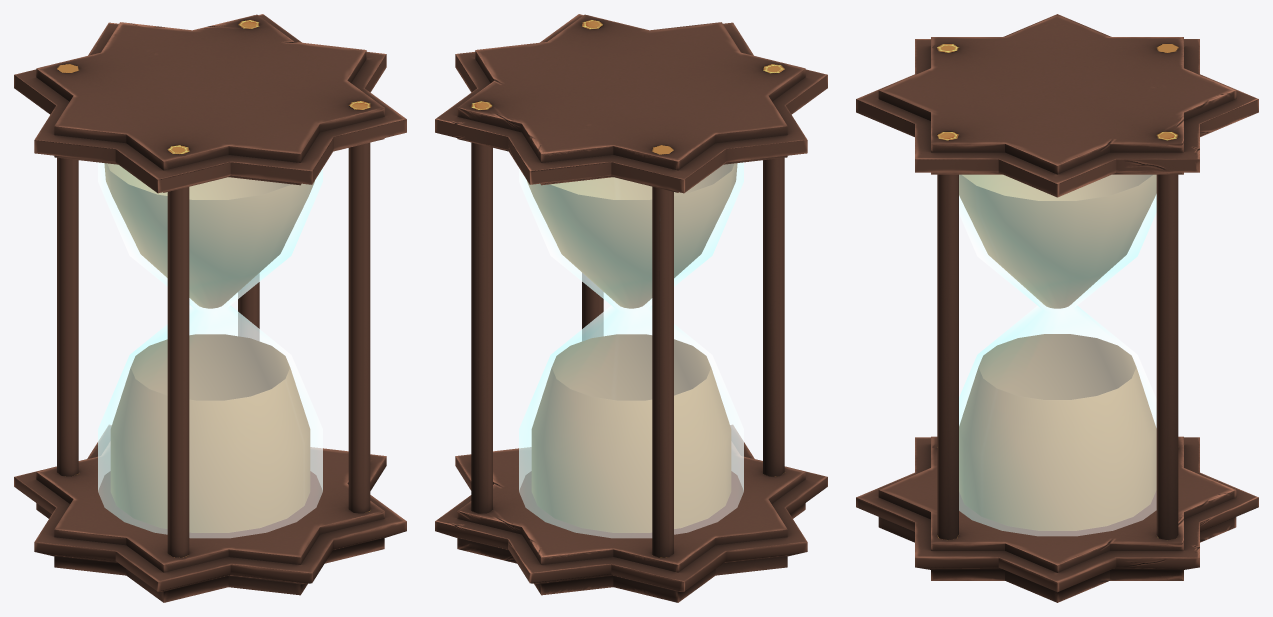
The model's file is SandTimer.FBX.
3 views of the same model, side by side, from view 1: azimuth 30°, elevation 25°; view 2: azimuth 150°, elevation 25°; view 3: azimuth 270°, elevation 25° (orthographic).
Parts seen in each view (by area): view 1: Object001, Object003, Object002; view 2: Object001, Object003, Object002; view 3: Object001, Object003, Object002.
Boxes of the visible parts, left/top/right/bottom form: Object001: left=14, top=14, right=406, bottom=602; Object003: left=110, top=334, right=310, bottom=532; Object002: left=104, top=163, right=314, bottom=308; Object001: left=435, top=14, right=827, bottom=602; Object003: left=531, top=334, right=731, bottom=532; Object002: left=527, top=163, right=737, bottom=308; Object001: left=856, top=14, right=1258, bottom=602; Object003: left=959, top=334, right=1156, bottom=530; Object002: left=959, top=174, right=1156, bottom=308.
Size of the model in its own units: 31.86 by 38.15 by 31.86.
